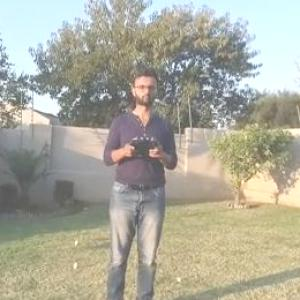follow: (98, 61, 186, 299)
